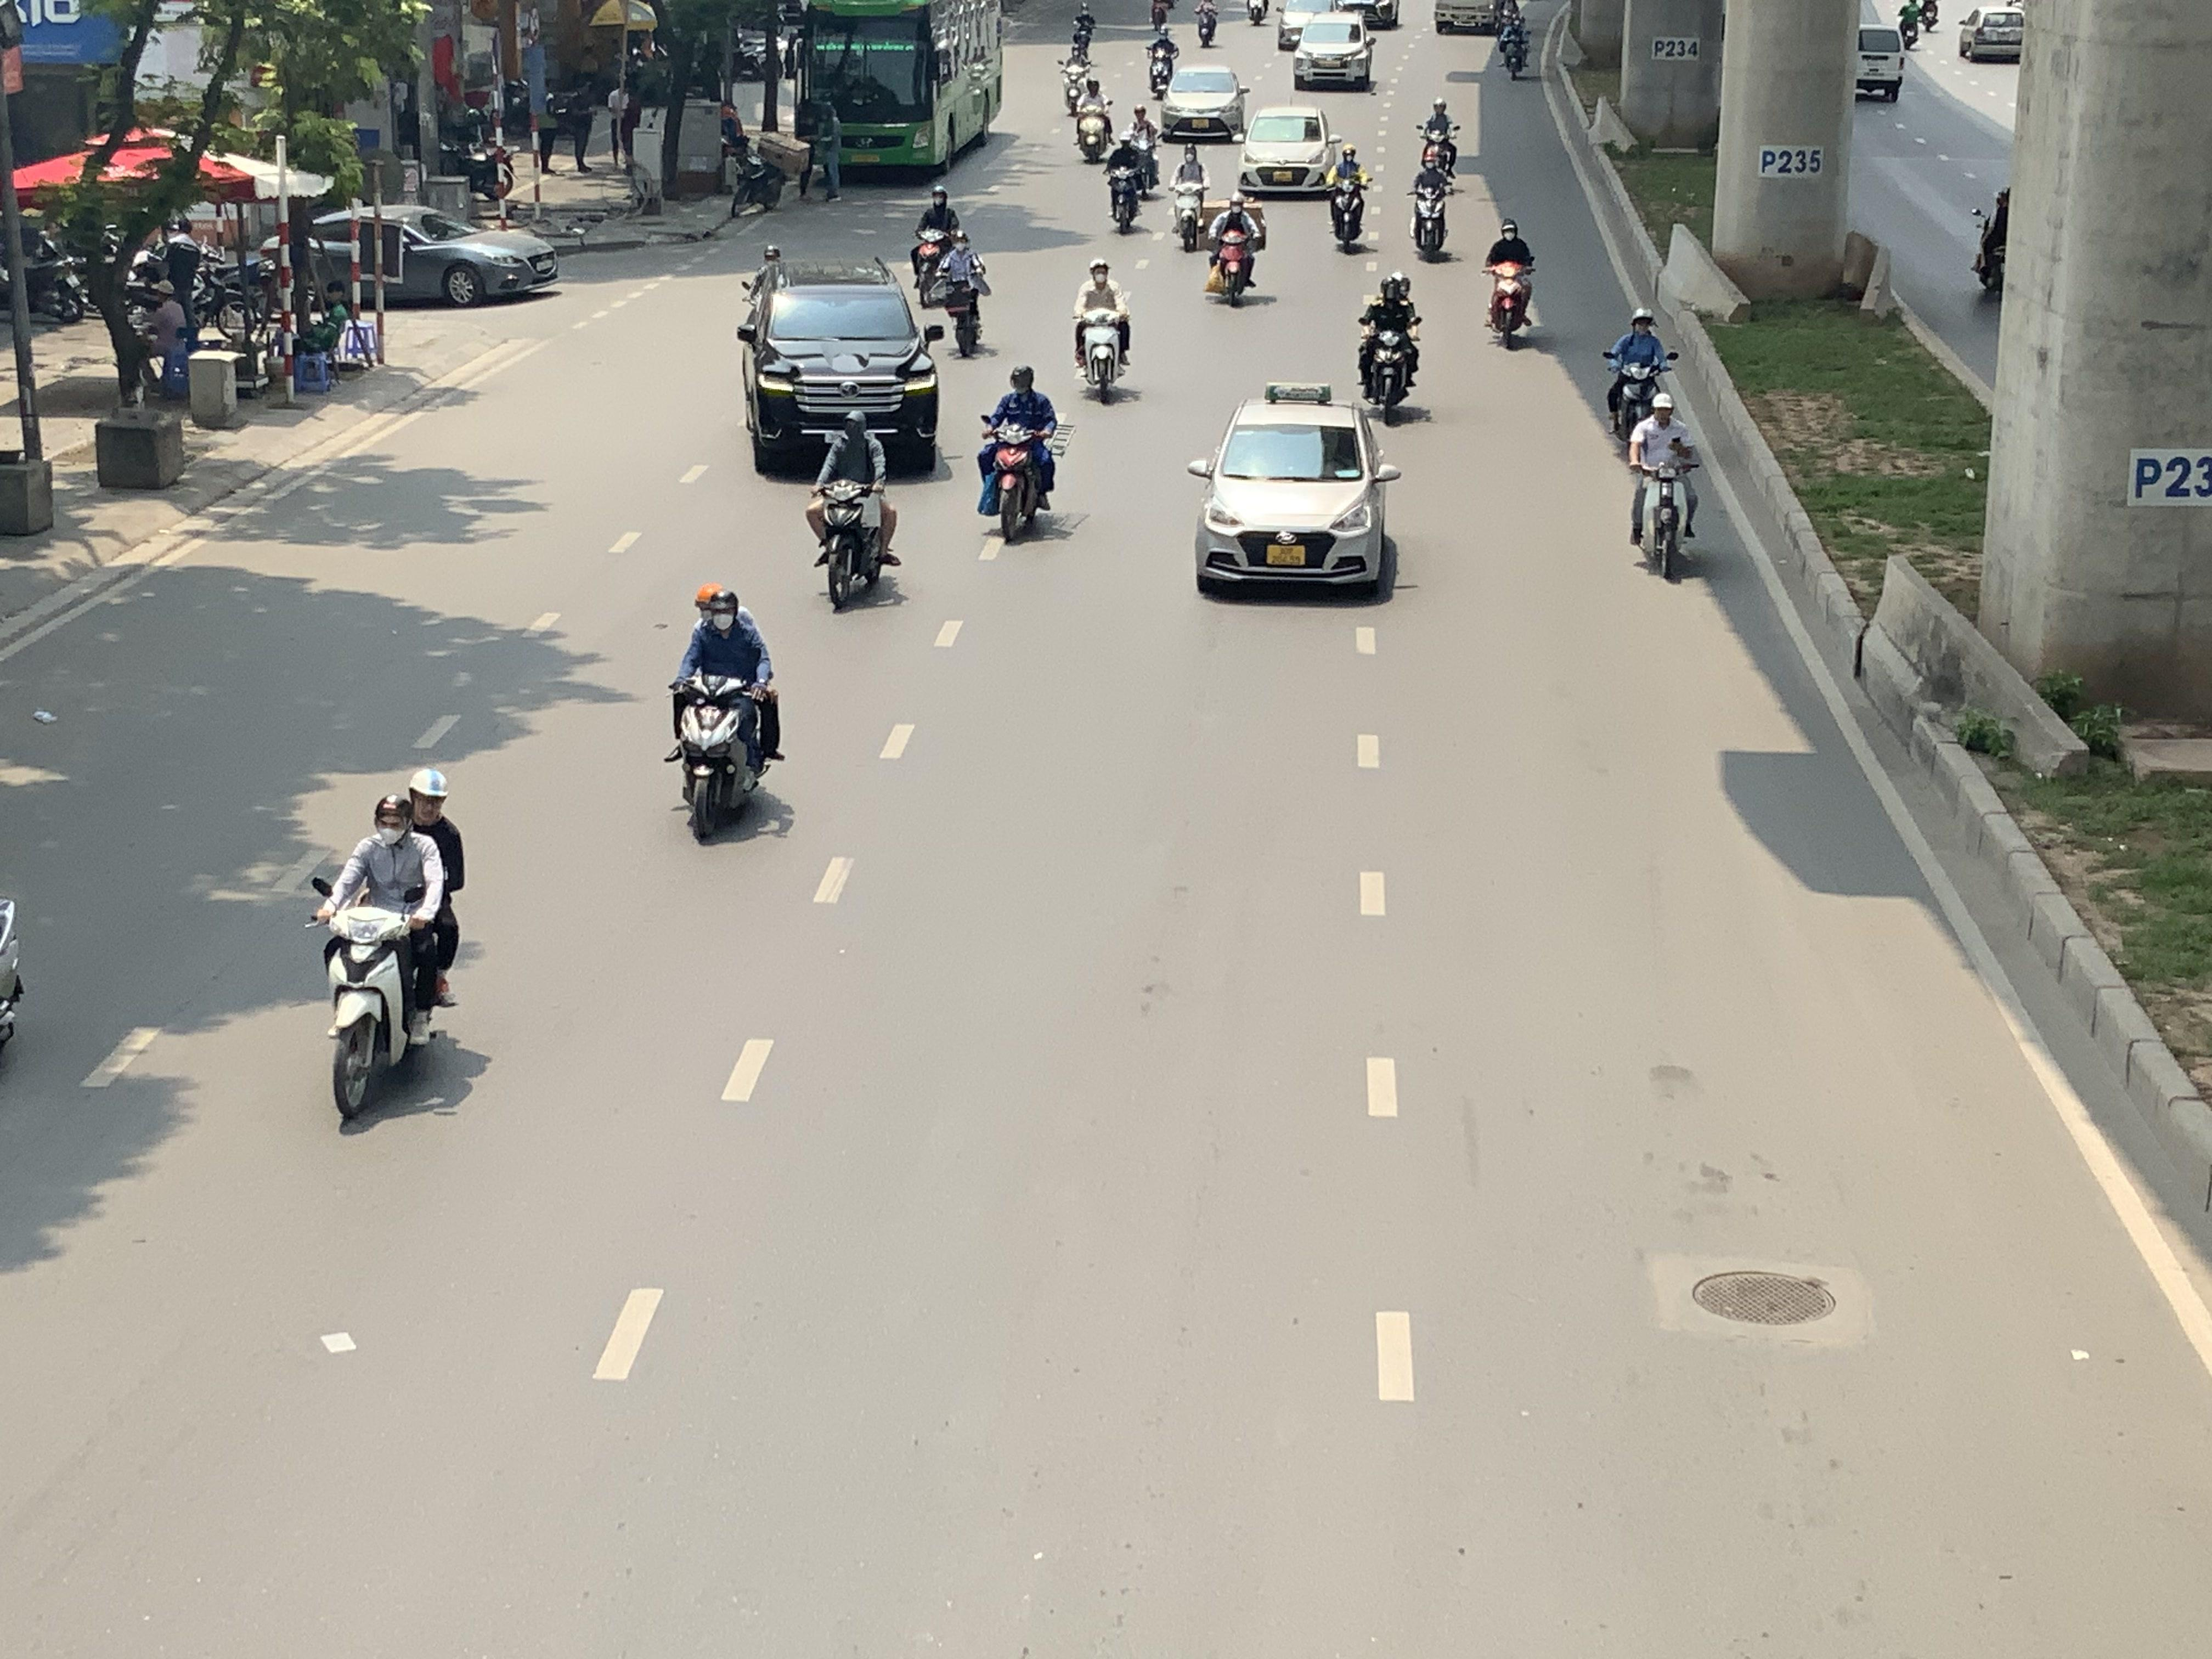BSD: (1266, 544, 1306, 566)
bus: (792, 0, 1005, 178)
car: (1188, 385, 1402, 603), (735, 254, 942, 476), (308, 206, 561, 308), (1238, 105, 1338, 193), (1158, 64, 1252, 143), (1291, 12, 1374, 92), (1958, 3, 2027, 63)
motorbike: (312, 770, 463, 1131), (667, 584, 780, 847), (808, 413, 900, 613), (977, 364, 1064, 545), (1627, 392, 1700, 584), (1602, 307, 1679, 450), (1355, 272, 1423, 423), (1071, 258, 1134, 404), (935, 227, 991, 357), (1484, 216, 1538, 350), (1205, 192, 1263, 307), (909, 185, 963, 305), (725, 119, 786, 218), (1407, 145, 1454, 261), (1325, 143, 1372, 254), (796, 105, 845, 206), (1970, 181, 2010, 303), (1170, 143, 1212, 253), (1104, 129, 1146, 235), (1071, 75, 1115, 164), (1122, 106, 1163, 195), (1418, 98, 1461, 174), (1144, 19, 1181, 99), (1496, 2, 1531, 80), (1059, 40, 1094, 115), (1068, 2, 1097, 68), (1193, 0, 1219, 47), (1245, 0, 1273, 28)
